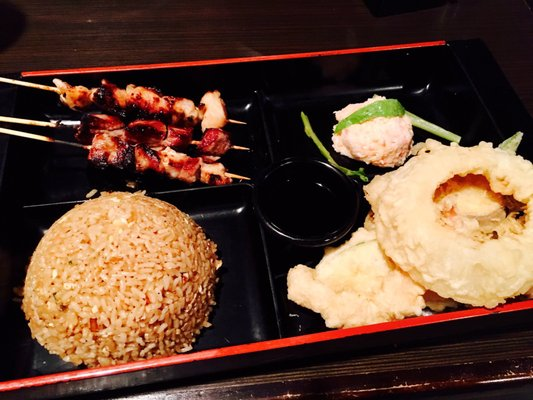soup: (365, 138, 533, 310)
sushi: (254, 158, 361, 252)
